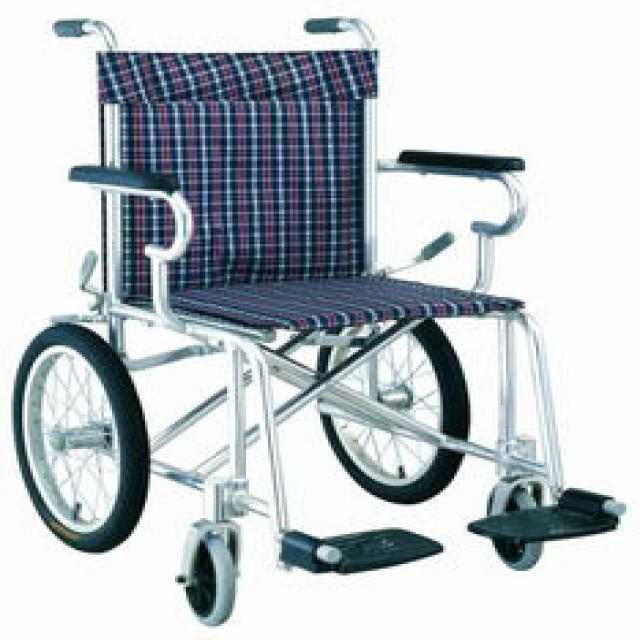wheelchair: (8, 2, 637, 624)
